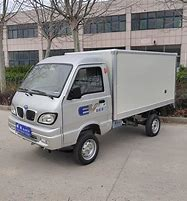smalltruck: (8, 39, 178, 163)
